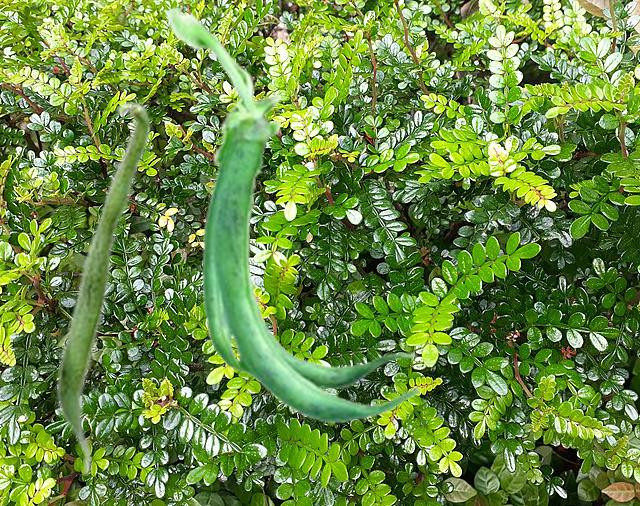french_bean: (164, 6, 420, 423), (55, 100, 151, 477)
